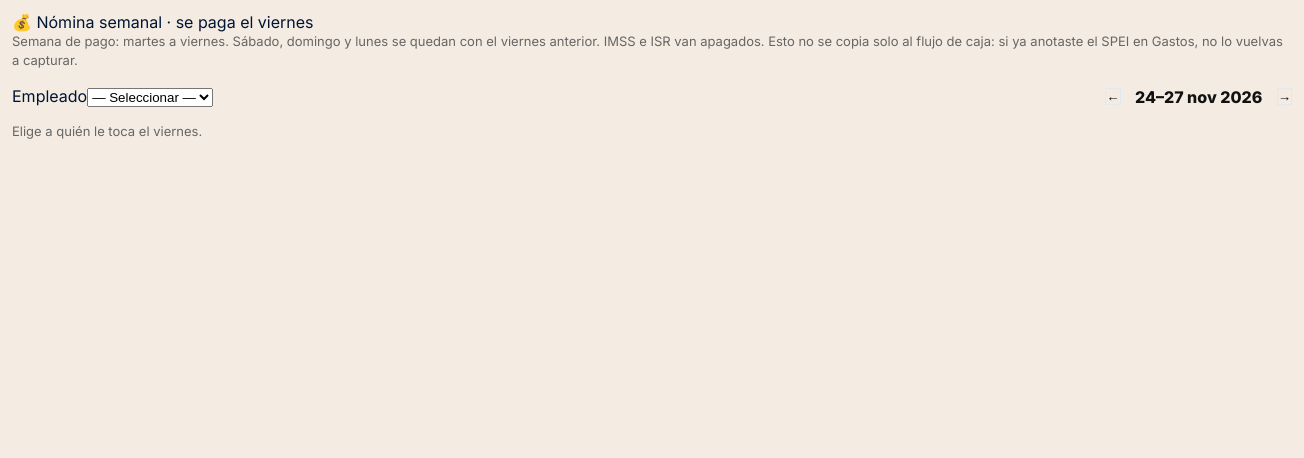
si falta el SQL semanal, calcula en local y no inventa ISR
Select "Erika" in the dropdown labelled "Empleado". click: (150, 97)
box: [87,88,213,107]
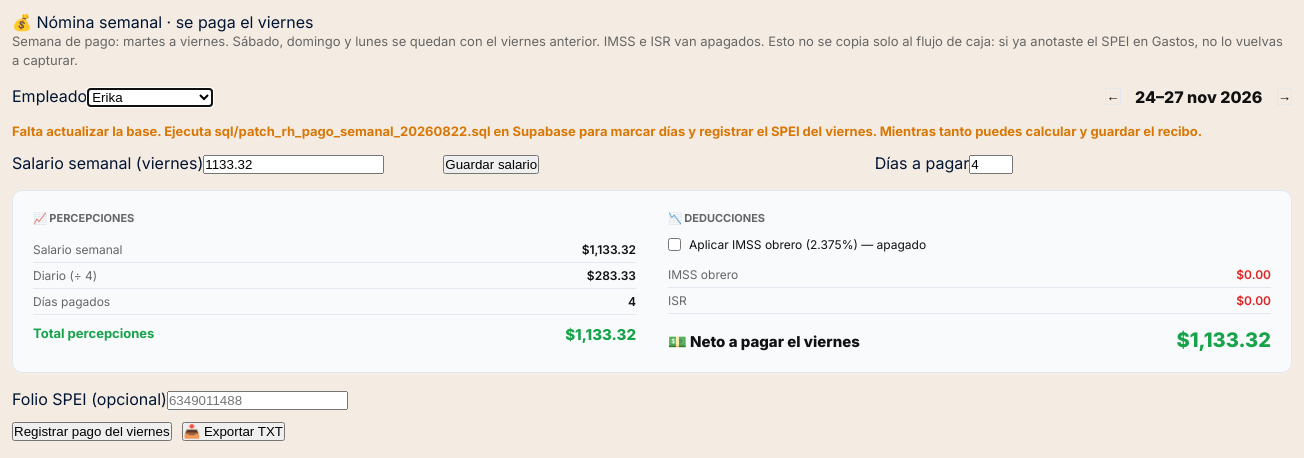
Expected: the text "patch_rh_pago_semanal_20260822.sql" is shown, [215,123,490,139]
Expected: the text "💵 Neto a pagar el viernes" is shown, [668,332,860,351]
Expected: the 1st text "$1,133.32" is shown, [582,242,636,257]
